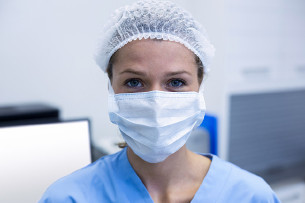face_mask: (109, 45, 200, 163)
